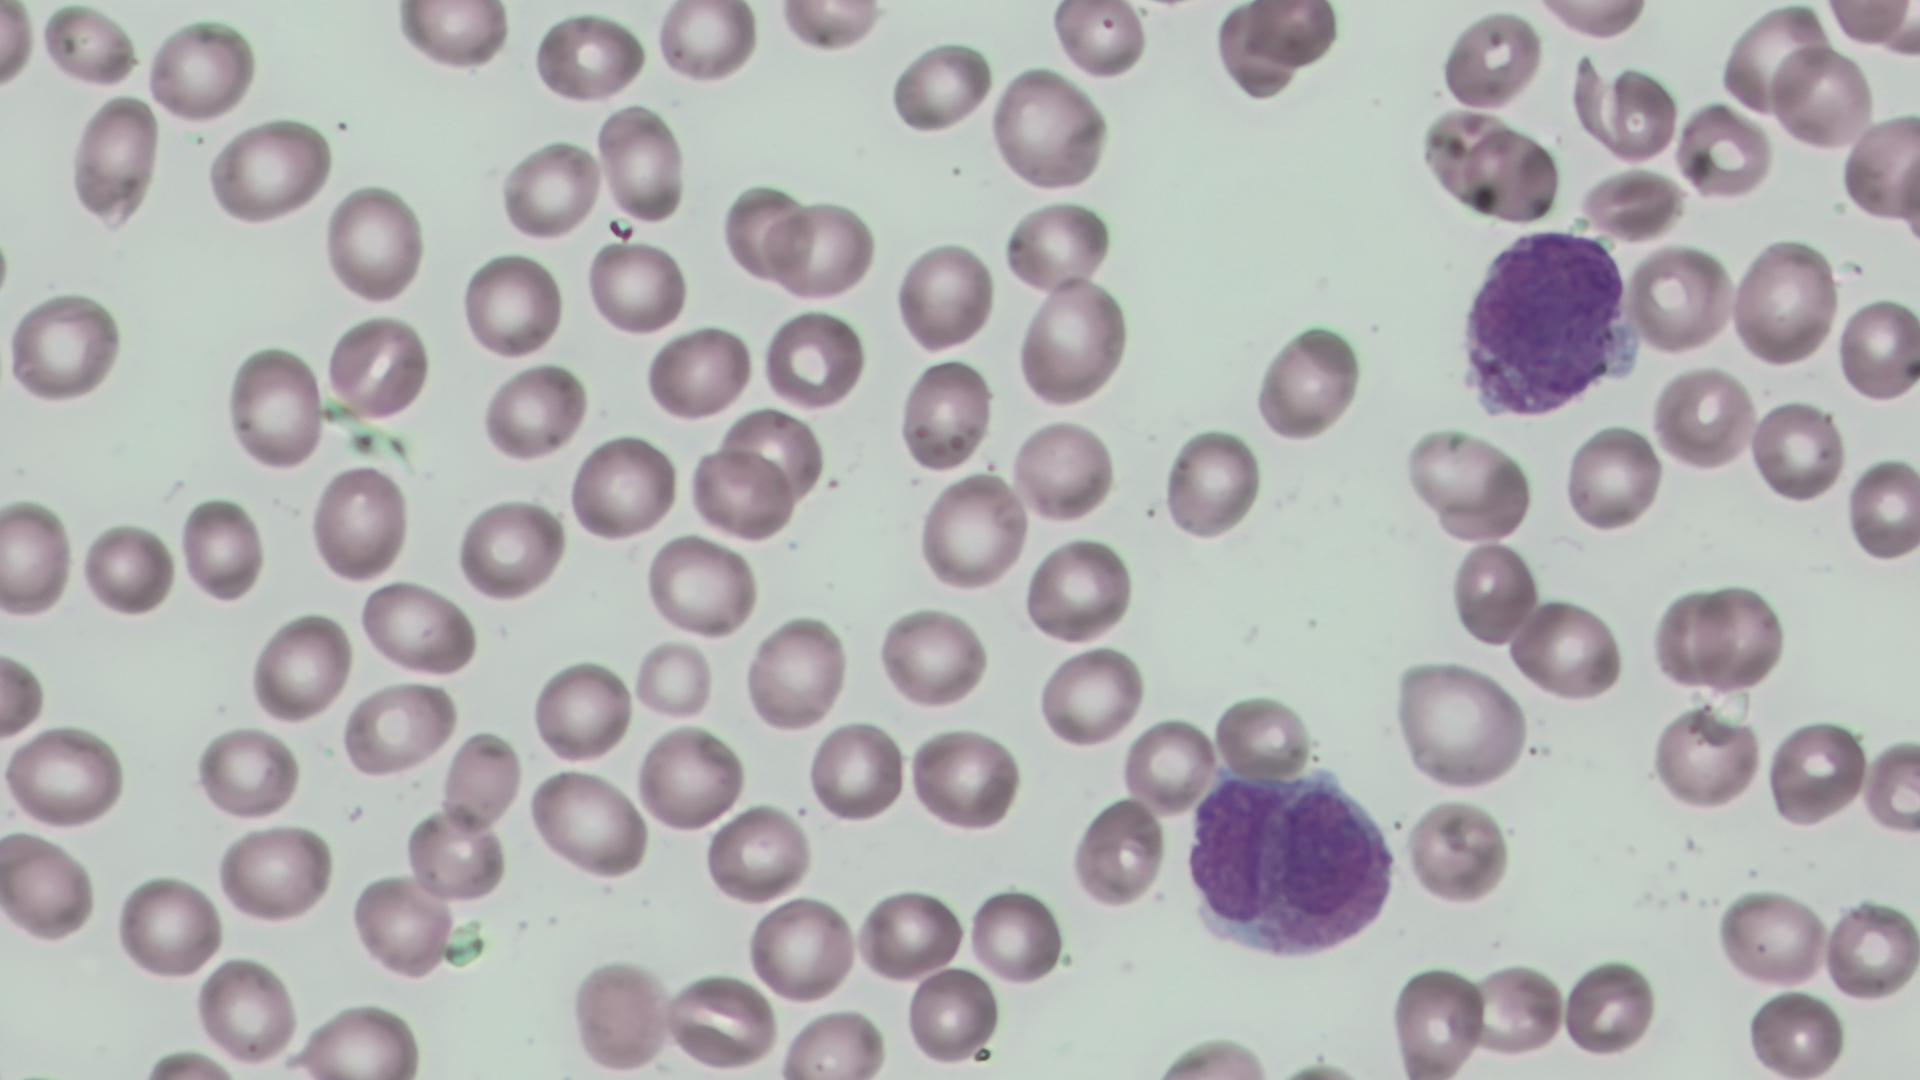RBC: (1390, 658, 1531, 792), (988, 63, 1109, 196), (1014, 275, 1131, 412), (1726, 233, 1840, 371), (1400, 424, 1532, 541), (201, 114, 333, 228), (4, 287, 125, 409), (1252, 317, 1366, 446), (915, 469, 1030, 596), (320, 181, 429, 310), (528, 764, 648, 881), (743, 888, 859, 1008), (223, 339, 326, 474), (632, 719, 748, 838), (742, 611, 850, 736), (67, 91, 163, 231), (1569, 50, 1683, 167), (566, 429, 680, 546), (307, 459, 412, 586), (1506, 594, 1626, 705), (566, 952, 675, 1074), (2, 723, 126, 830), (905, 723, 1025, 833), (1718, 2, 1828, 120), (246, 608, 354, 728), (1648, 701, 1762, 814), (191, 951, 301, 1068), (213, 822, 334, 928), (457, 246, 566, 363), (1712, 886, 1832, 991), (1162, 424, 1265, 546), (1022, 534, 1134, 646), (1402, 794, 1512, 908), (144, 14, 259, 123), (662, 969, 781, 1074), (325, 309, 432, 425), (1629, 241, 1737, 355), (1562, 418, 1666, 536), (891, 238, 994, 357), (112, 871, 222, 982), (875, 603, 988, 711), (356, 577, 478, 677), (348, 869, 457, 980), (647, 532, 758, 641), (893, 355, 994, 474), (454, 494, 565, 602), (701, 800, 813, 907), (765, 196, 878, 302), (1766, 716, 1870, 831), (528, 7, 647, 107), (1768, 41, 1874, 153), (1011, 416, 1119, 525), (1648, 361, 1754, 472), (341, 679, 458, 779), (760, 305, 867, 414), (530, 654, 634, 766), (1390, 960, 1489, 1077), (477, 358, 587, 463), (1033, 644, 1144, 748), (593, 104, 689, 224), (1438, 5, 1545, 112), (718, 406, 828, 510), (1001, 196, 1114, 297), (1070, 794, 1168, 910), (0, 827, 97, 944), (806, 716, 909, 826), (1455, 121, 1560, 228), (1690, 581, 1790, 693), (583, 235, 690, 339), (1460, 958, 1568, 1061), (643, 323, 753, 424), (292, 998, 428, 1079), (191, 723, 302, 822), (1748, 395, 1846, 506), (1822, 893, 1918, 1006), (498, 137, 599, 244), (1448, 537, 1542, 650), (1674, 99, 1776, 203), (886, 38, 992, 138), (1560, 953, 1659, 1060), (904, 960, 1003, 1066), (855, 885, 964, 981), (686, 446, 794, 542), (77, 516, 175, 620), (176, 493, 266, 605), (1210, 688, 1316, 783), (1211, 0, 1309, 102), (404, 808, 508, 904), (1122, 715, 1218, 817), (968, 886, 1066, 985), (719, 180, 810, 284), (1648, 584, 1738, 689), (651, 2, 759, 89), (39, 1, 141, 93), (1838, 108, 1918, 225), (1742, 986, 1846, 1076), (440, 729, 526, 837), (0, 495, 74, 618), (1836, 295, 1917, 404), (391, 0, 511, 72), (1048, 1, 1150, 83), (1844, 453, 1918, 565), (775, 1006, 887, 1078), (630, 636, 716, 722), (1242, 2, 1341, 74), (1860, 732, 1920, 840), (771, 1, 885, 54), (1529, 0, 1653, 42), (1818, 0, 1917, 49), (0, 644, 48, 741), (0, 0, 38, 103), (1888, 142, 1920, 255)
WBC: (1176, 760, 1402, 970), (1450, 221, 1648, 422)
